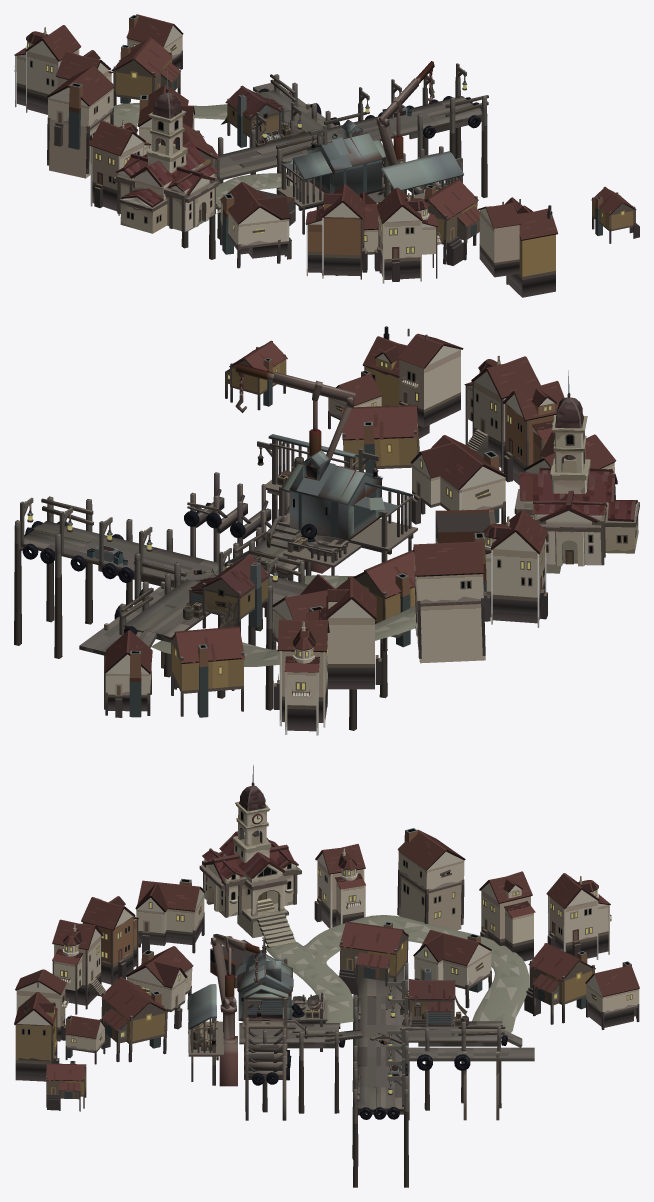
File: GM_Town_tx.fbx
3 renders of one model, top to bottom at view 1: azimuth 30°, elevation 25°; view 2: azimuth 150°, elevation 25°; view 3: azimuth 270°, elevation 25°, orthographic. The views are drawn at different scales.
Parts seen in each view (by area): view 1: GM_Town; view 2: GM_Town; view 3: GM_Town.
Boxes of the visible parts, box(x1,y1,x2,y2) form: GM_Town: box(14, 14, 639, 297); GM_Town: box(14, 326, 639, 735); GM_Town: box(14, 764, 639, 1187).
Size of the model in its own units: 397 by 229 by 519.
Materials: 7 (7 with a texture image).
